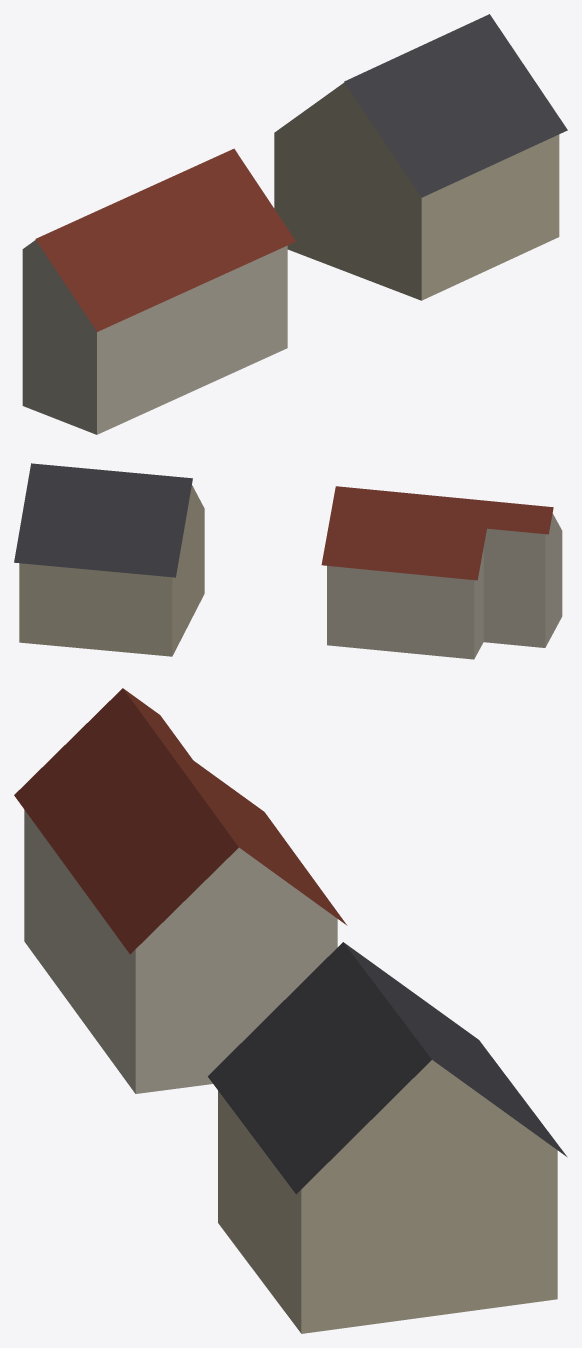
3 views of the same model, one above another, from view 1: azimuth 30°, elevation 25°; view 2: azimuth 150°, elevation 25°; view 3: azimuth 270°, elevation 25° (orthographic). The views are drawn at different scales.
Visible parts, largest first — view 1: buildings; view 2: buildings; view 3: buildings.
Boxes of the visible parts, x1,y1,x2,y2 form: buildings: [22, 14, 567, 434]; buildings: [14, 463, 562, 659]; buildings: [14, 688, 567, 1333].
Size of the model in its own units: 34.63 by 10.55 by 20.36.
